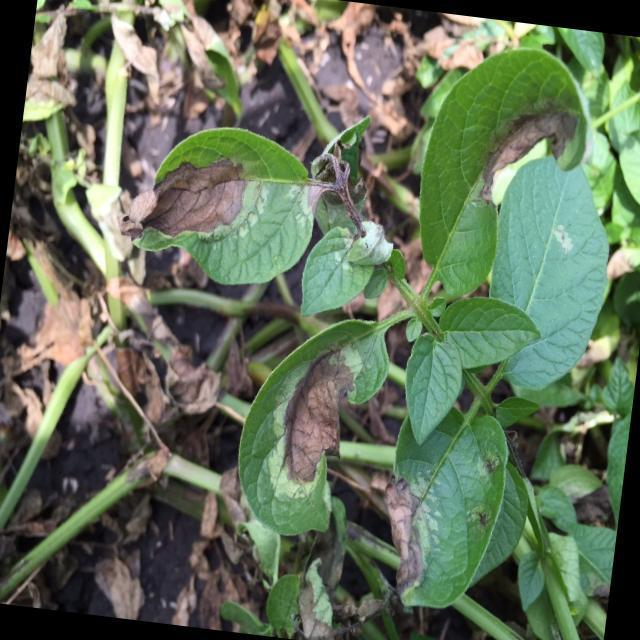Healthy Leaf: (426, 287, 544, 375), (398, 330, 463, 448)
